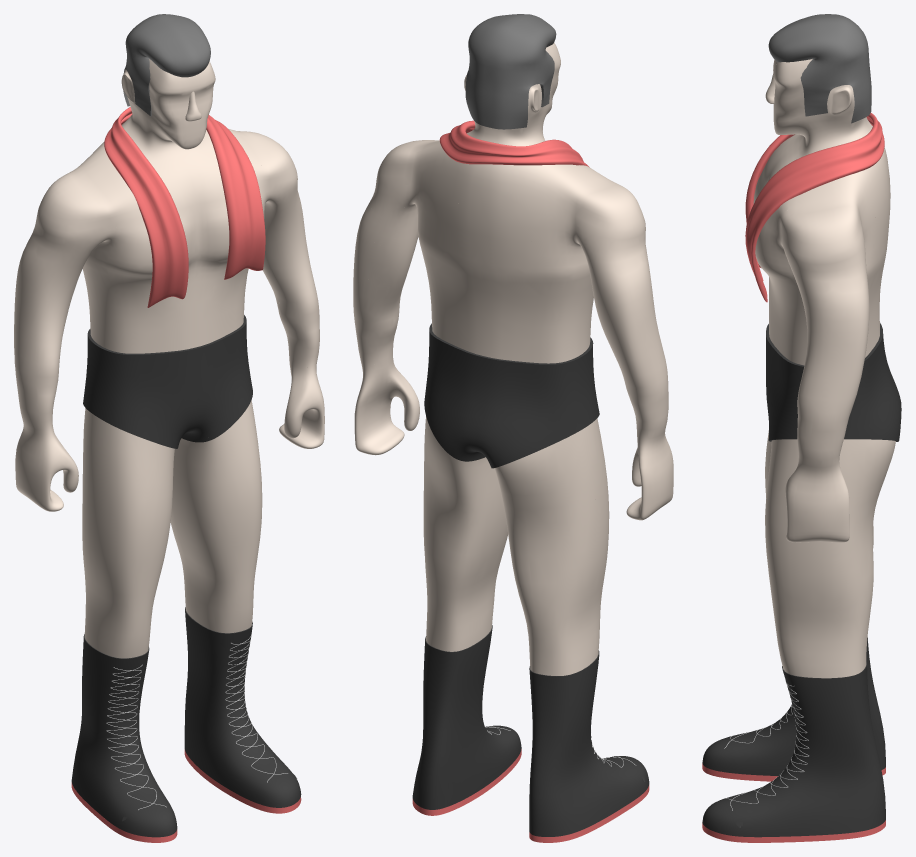
3 views of the same model, side by side, from view 1: azimuth 30°, elevation 25°; view 2: azimuth 150°, elevation 25°; view 3: azimuth 270°, elevation 25° (orthographic). The views are drawn at different scales.
Visible parts, largest first — view 1: 020_Inoki; view 2: 020_Inoki; view 3: 020_Inoki.
Boxes of the visible parts, x1,y1,x2,y2 form: 020_Inoki: (14,14,324,842); 020_Inoki: (353,14,673,842); 020_Inoki: (702,14,901,842).
Bounding box in the file's own units: 0.0897 × 0.2213 × 0.0513.
